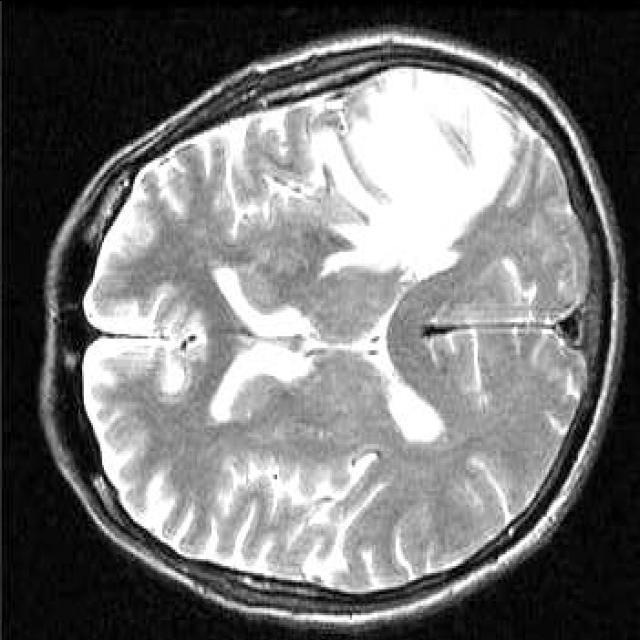tumor: (321, 66, 516, 284)
